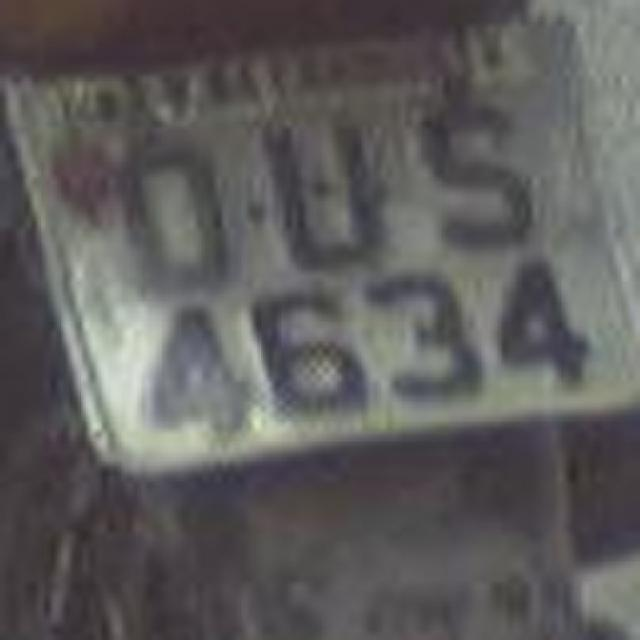3: (348, 248, 500, 412)
4: (124, 284, 271, 451), (468, 229, 612, 396)
6: (235, 264, 380, 436)
O: (108, 124, 244, 296)
S: (400, 95, 535, 240)
U: (240, 105, 395, 280)
